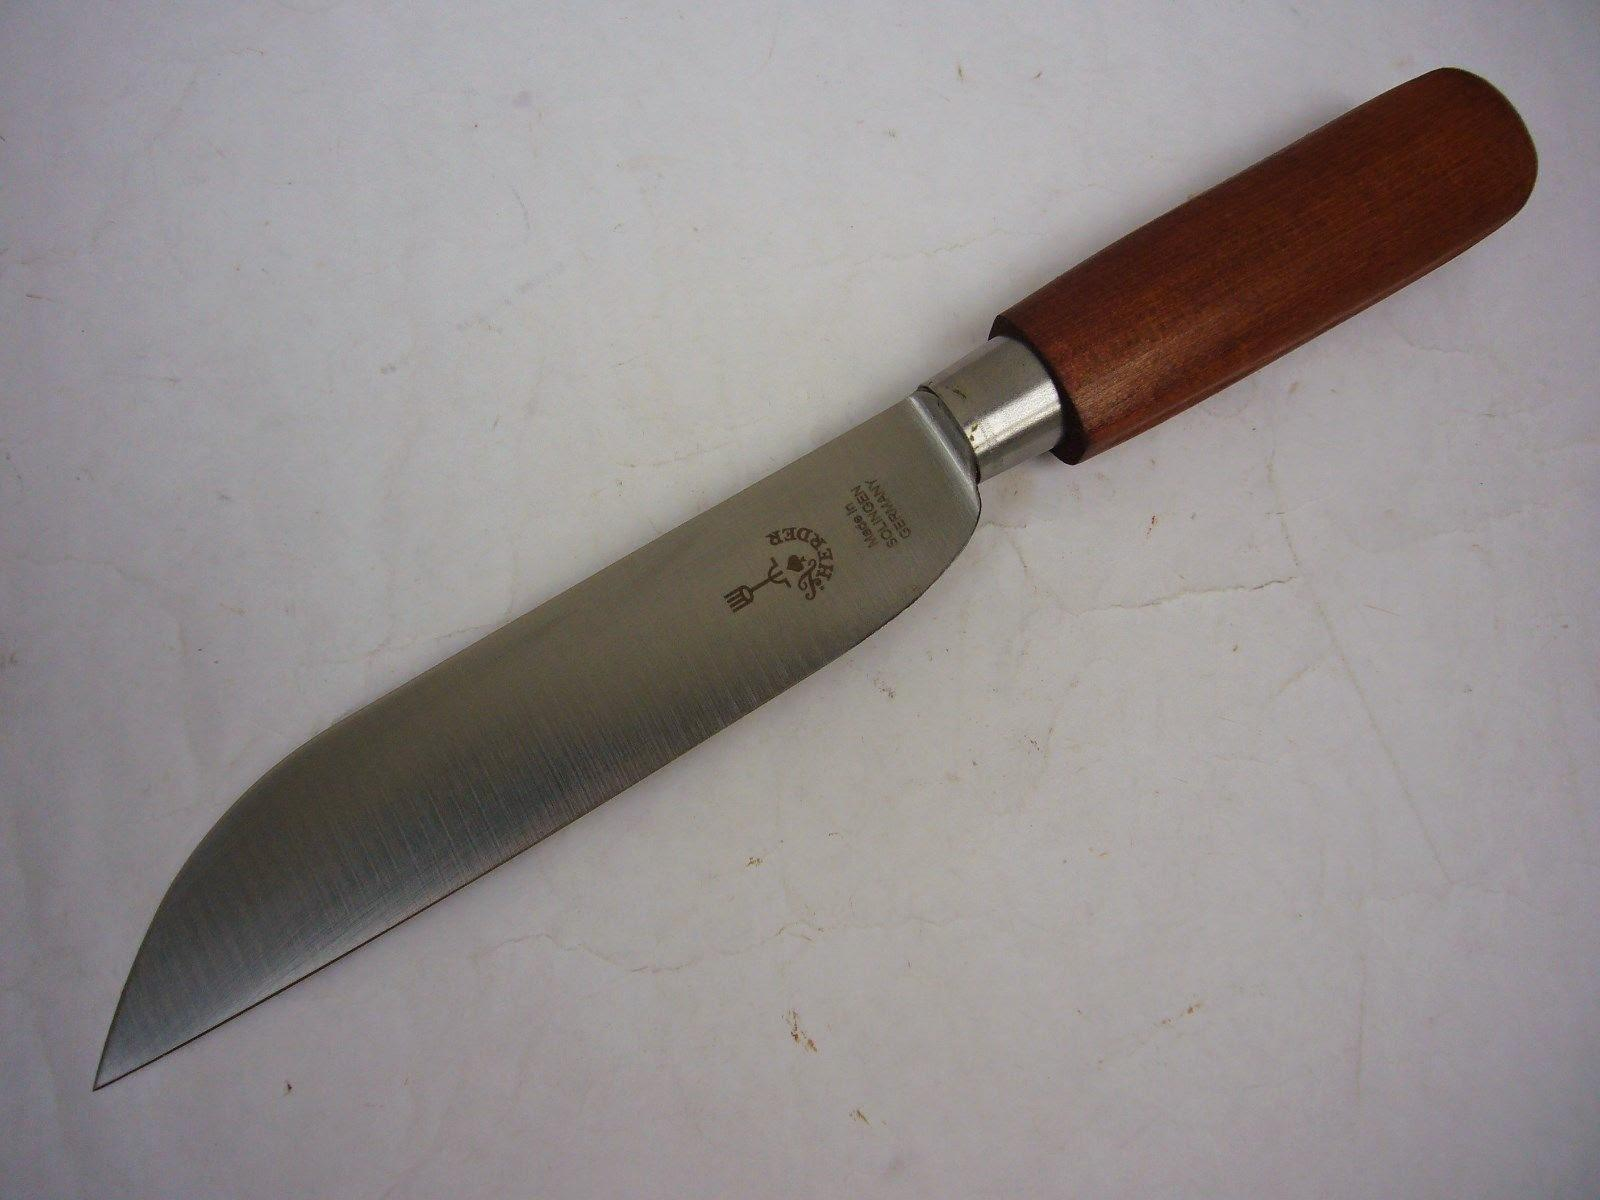faca: (96, 68, 1536, 1087)
